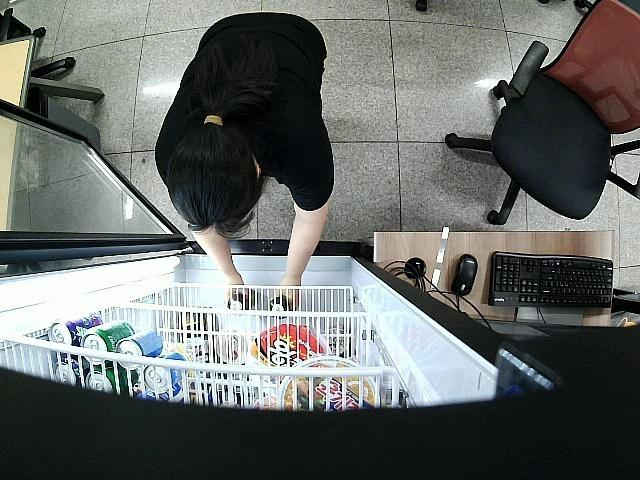19_17cha: (268, 294, 292, 314), (226, 292, 250, 308)
